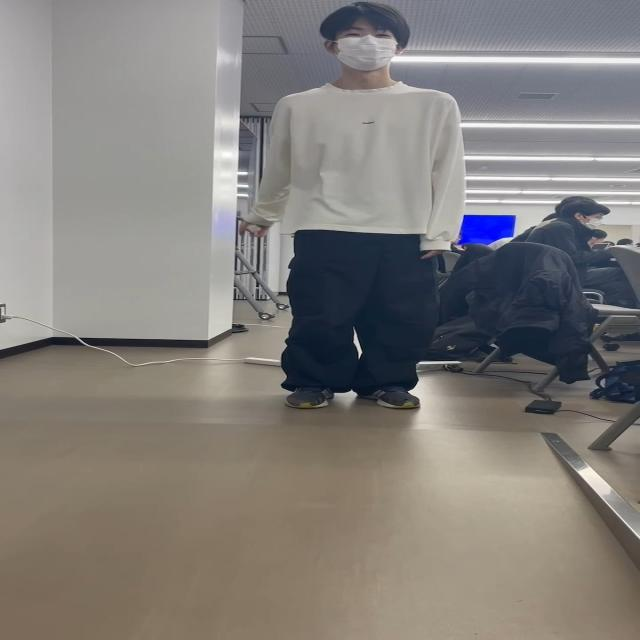paper: (244, 222, 266, 238)
